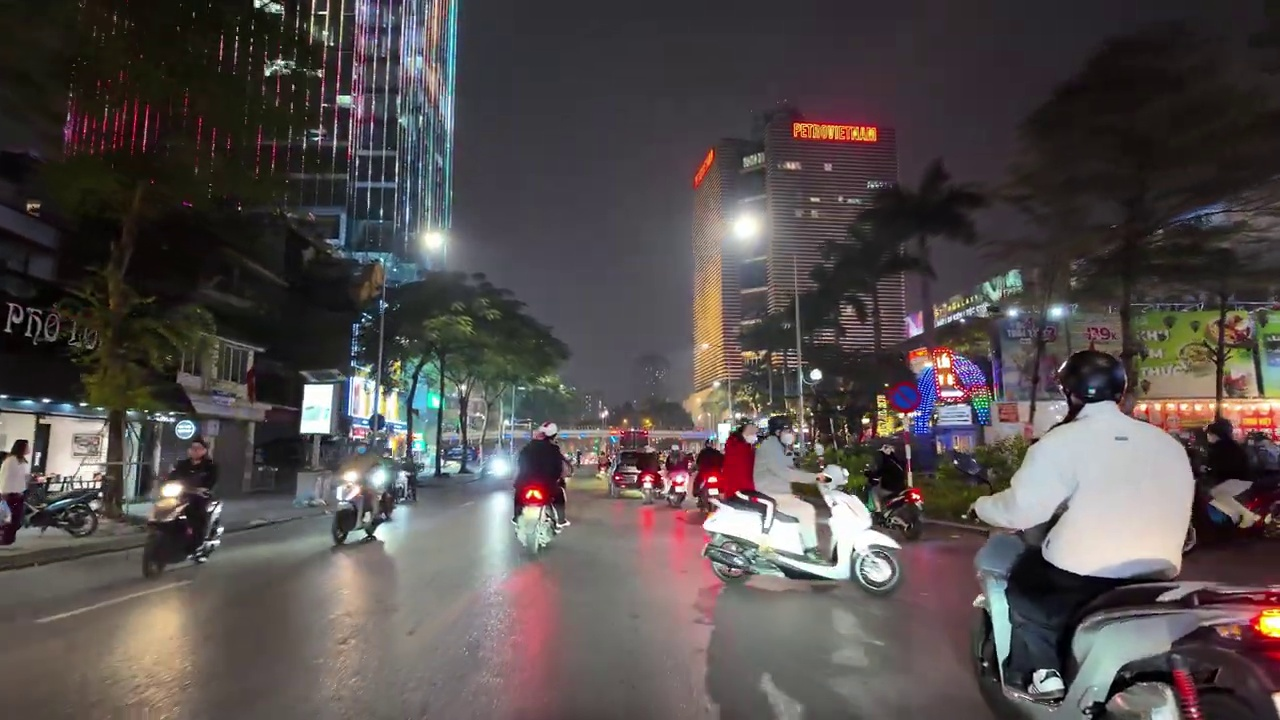acesa: (724, 212, 765, 246), (416, 224, 453, 258)
